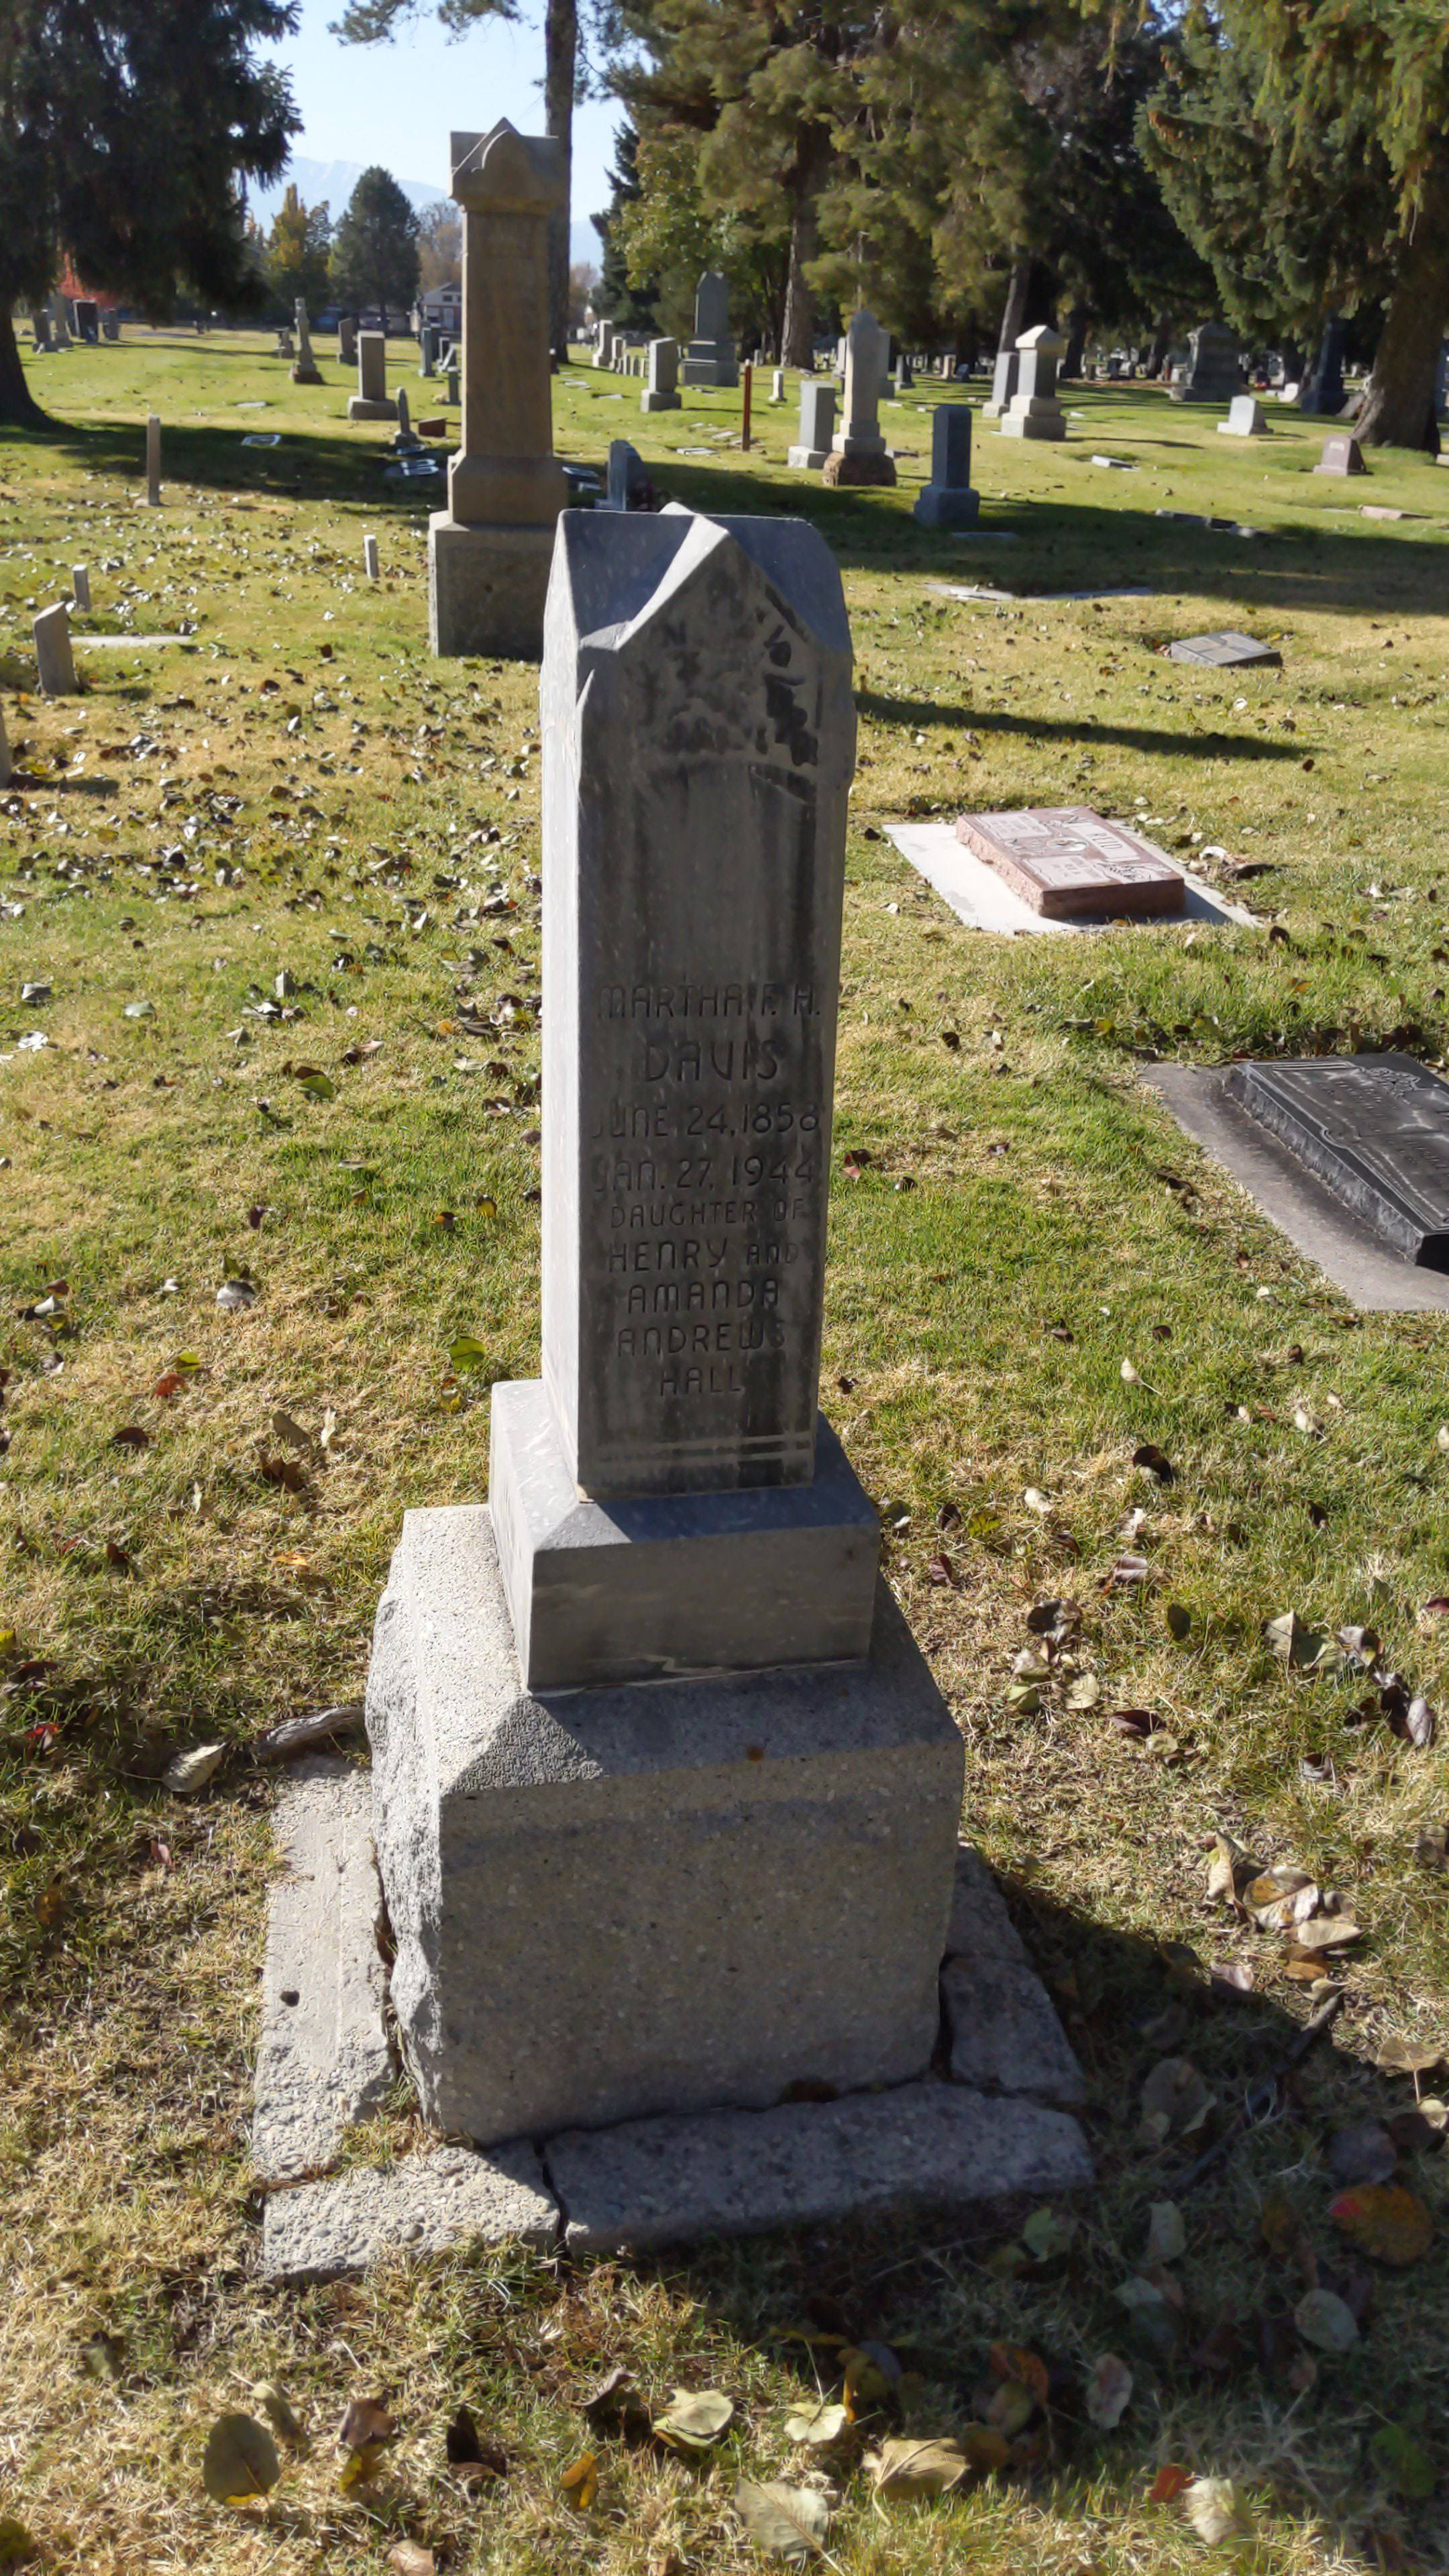obelisk: (511, 502, 881, 1700)
